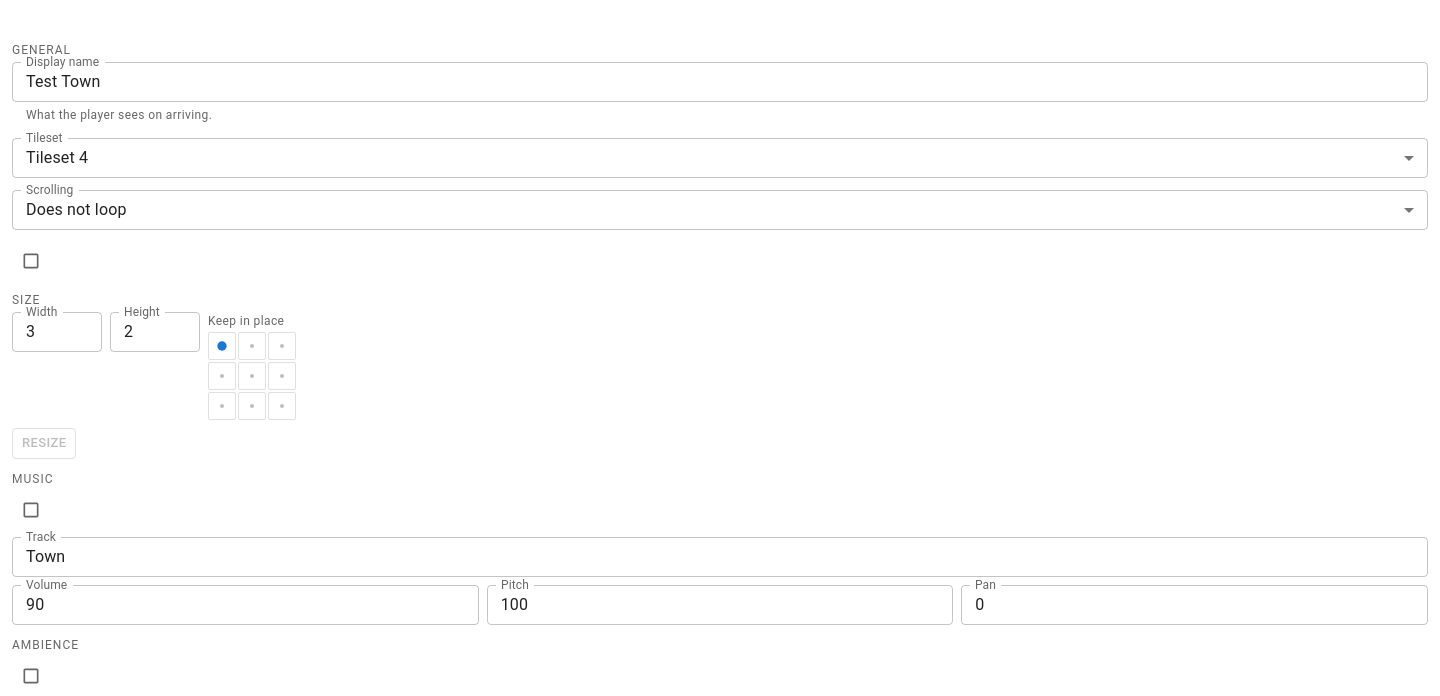
MapPropertiesPanel › lists nothing when every landing tile stays where it was
Replace the text in the field labelled "Width" with "5": (57, 332) [12,312,102,352]
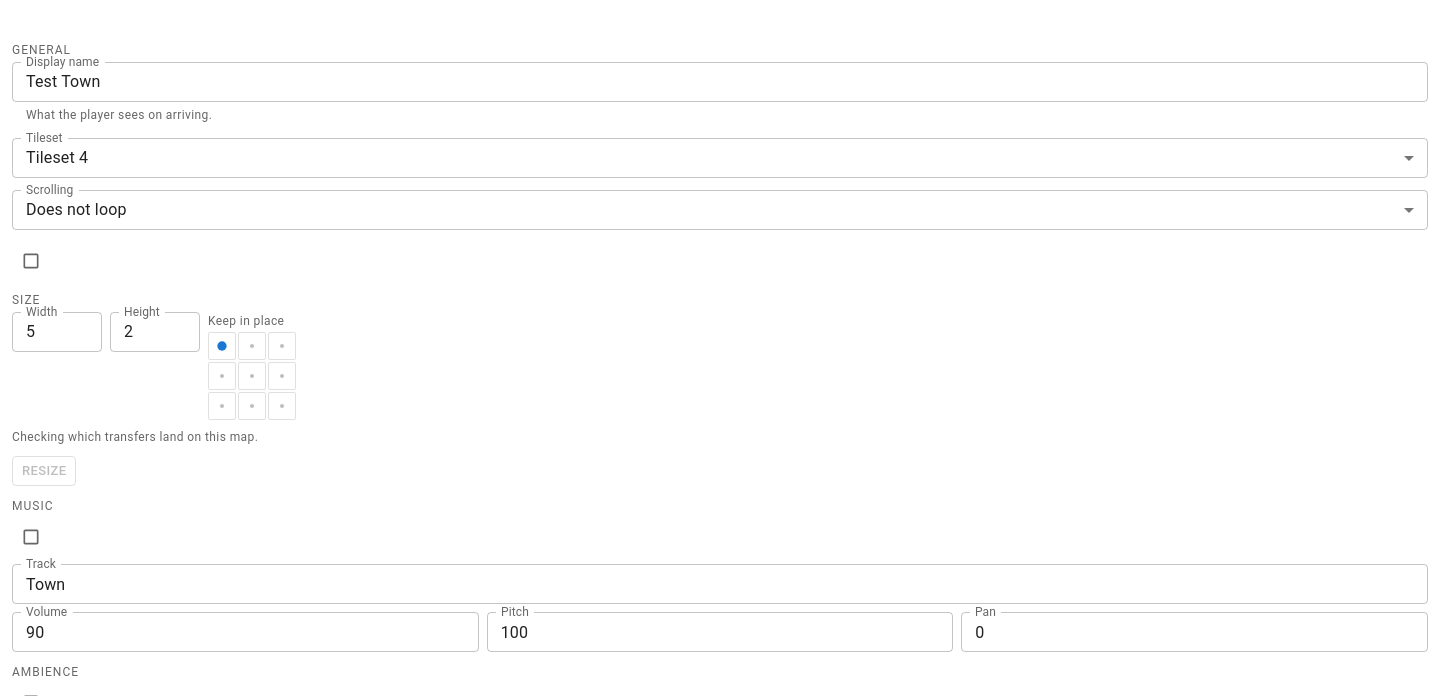
Click the radio button named "Top left": (222, 346) [208,332,236,360]
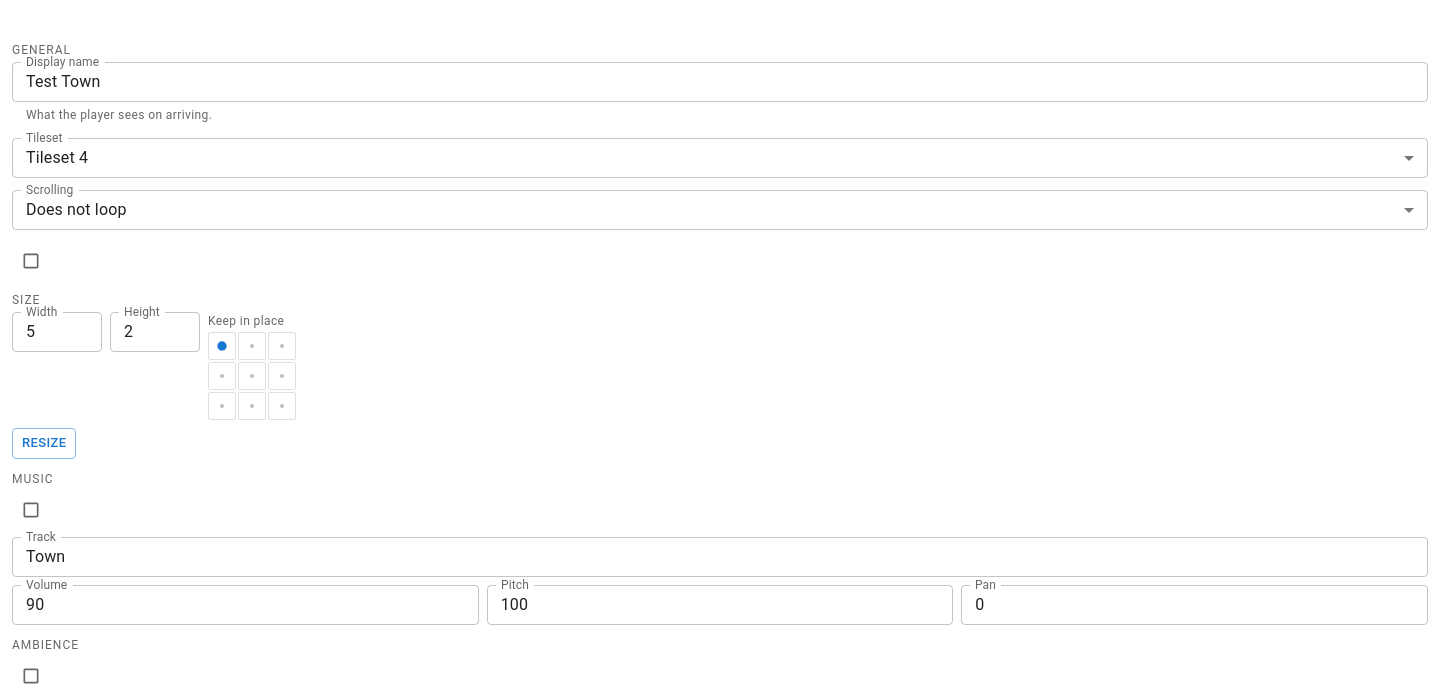
Now the button "Resize" is enabled, box [12,428,76,459]
